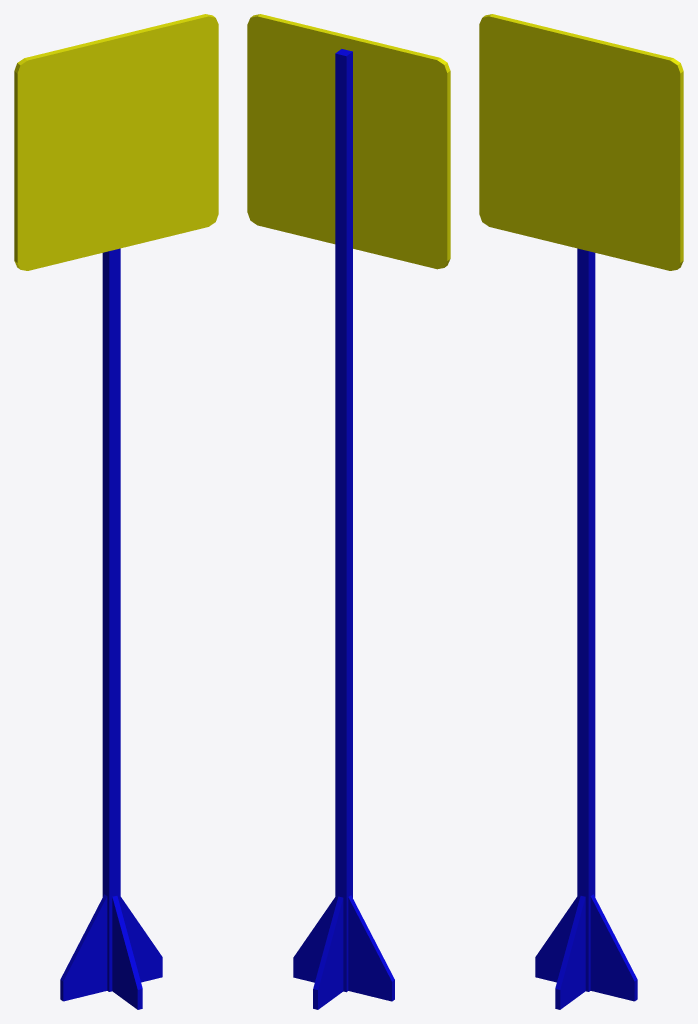
File: Regulation.fbx
3 renders of one model, left to right at view 1: azimuth 30°, elevation 25°; view 2: azimuth 150°, elevation 25°; view 3: azimuth 330°, elevation 25°, orthographic.
Visible parts, largest first — view 1: Regulation_01; view 2: Regulation_01; view 3: Regulation_01.
Part boxes in pixels (x1,y1,x2,y2): Regulation_01: (14,14,218,1009); Regulation_01: (247,14,450,1009); Regulation_01: (479,14,683,1009).
Size of the model in its own units: 71 by 322 by 35.12.
